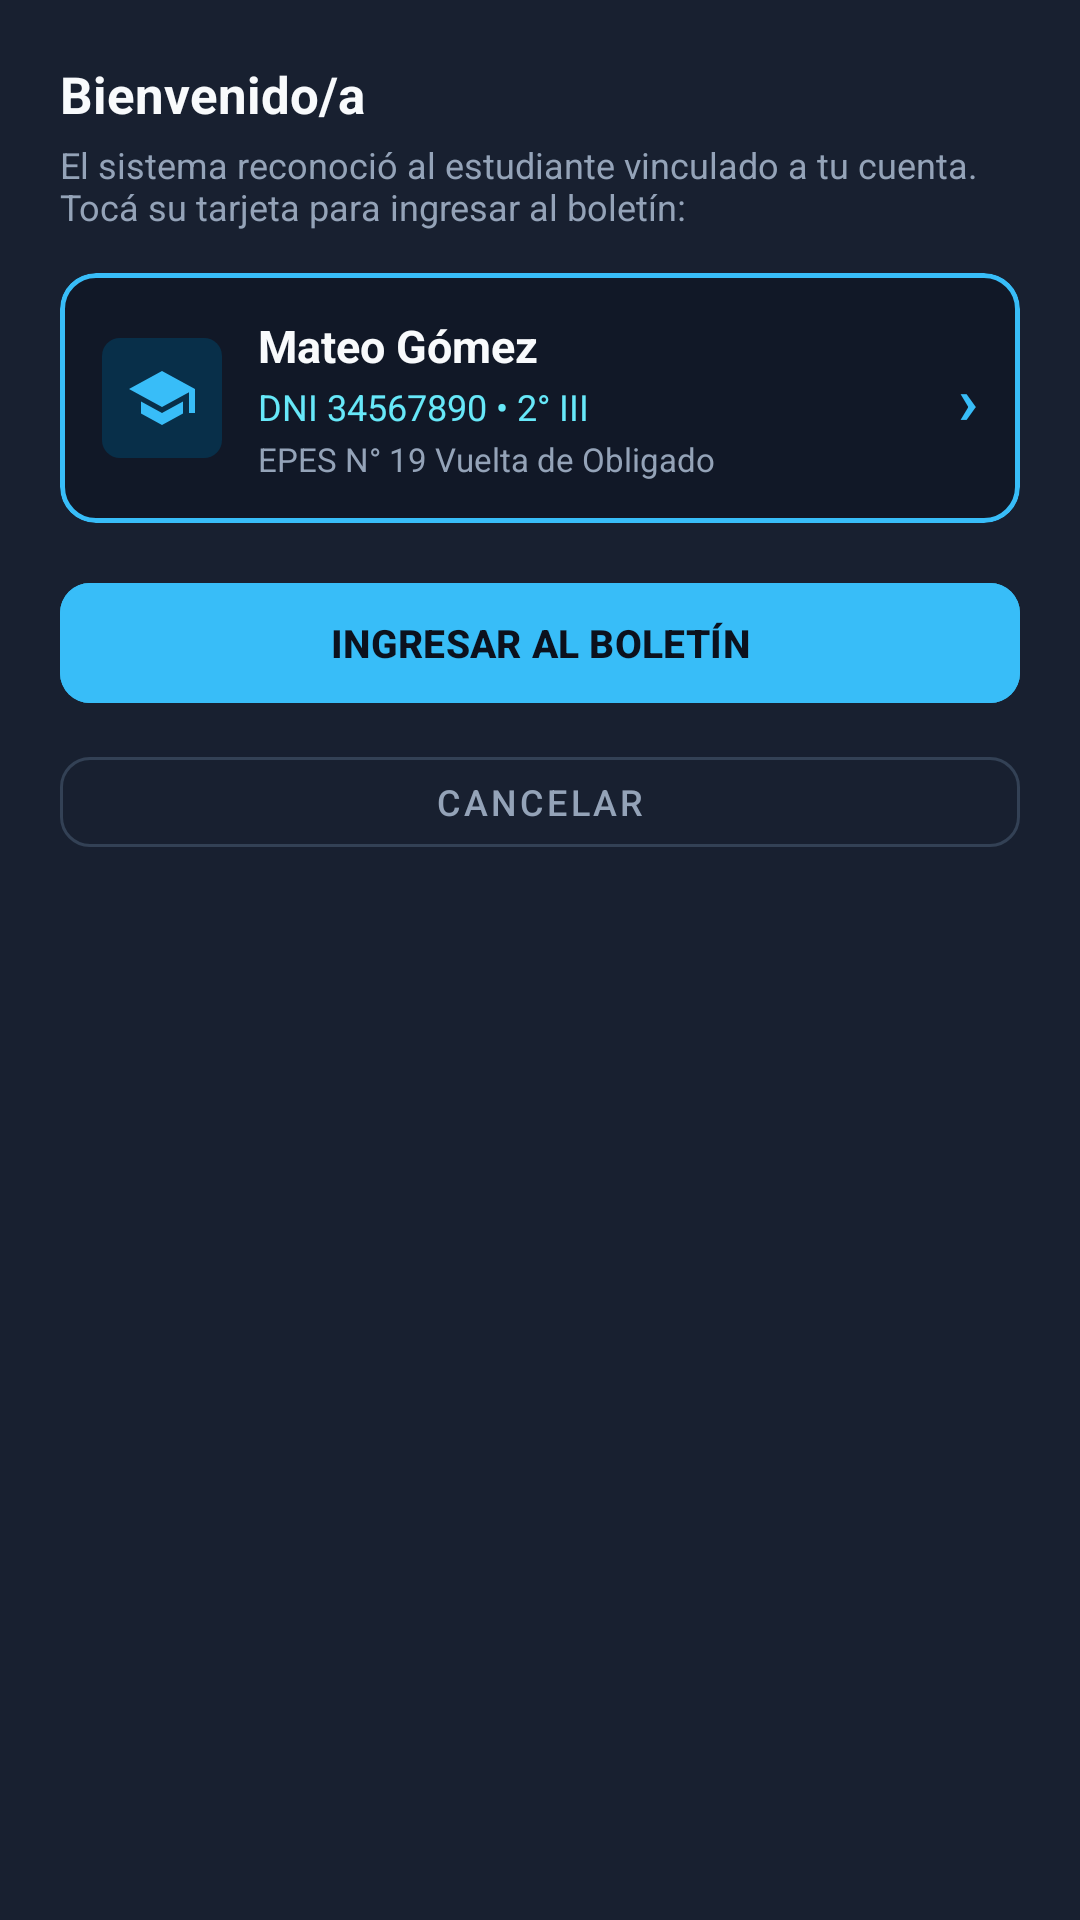

Screen size 1080w x 1920h. Icon name, then its center in pixels as (x,y):
school: (162,398)
